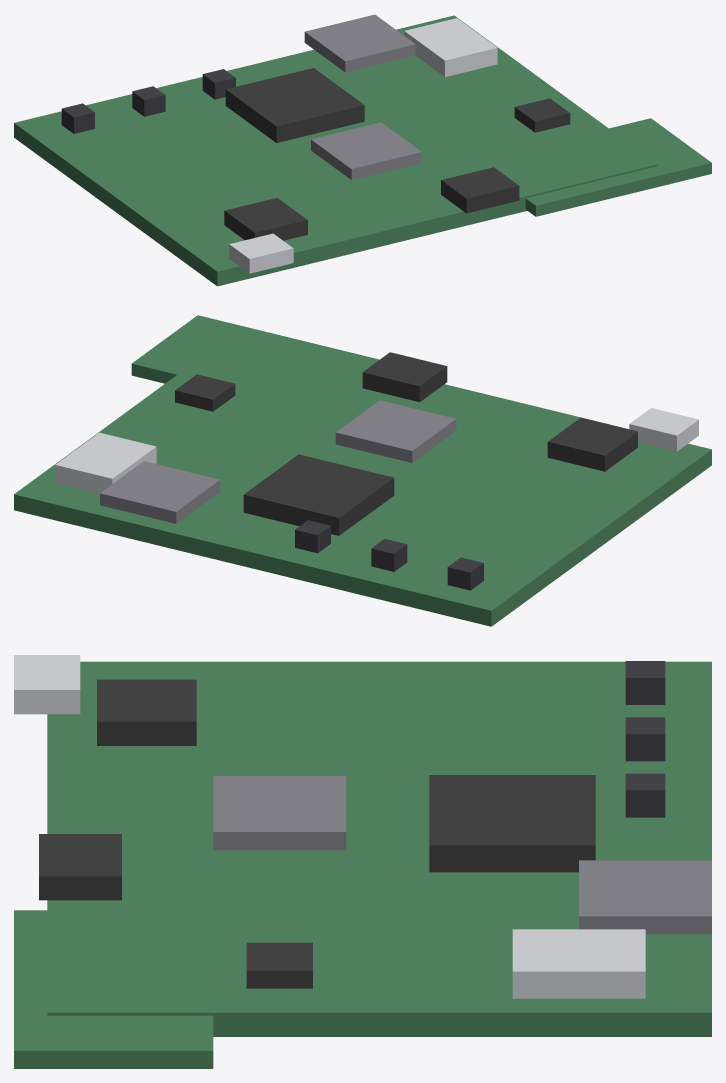
File: mainboard.gltf
3 views of the same model, one above another, from view 1: azimuth 30°, elevation 25°; view 2: azimuth 150°, elevation 25°; view 3: azimuth 270°, elevation 25° (orthographic). The views are drawn at different scales.
Parts seen in each view (by area): view 1: mainboard; view 2: mainboard; view 3: mainboard.
Part boxes in pixels (x1,y1,x2,y2): mainboard: (14, 14, 711, 286); mainboard: (14, 315, 711, 626); mainboard: (14, 655, 711, 1068).
Bounding box in the file's own units: 0.275 × 0.019 × 0.21.
